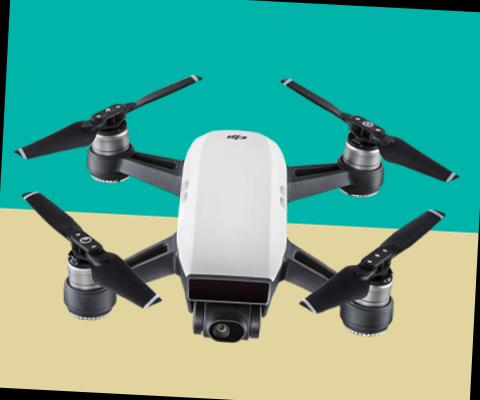drone: (0, 53, 467, 358)
